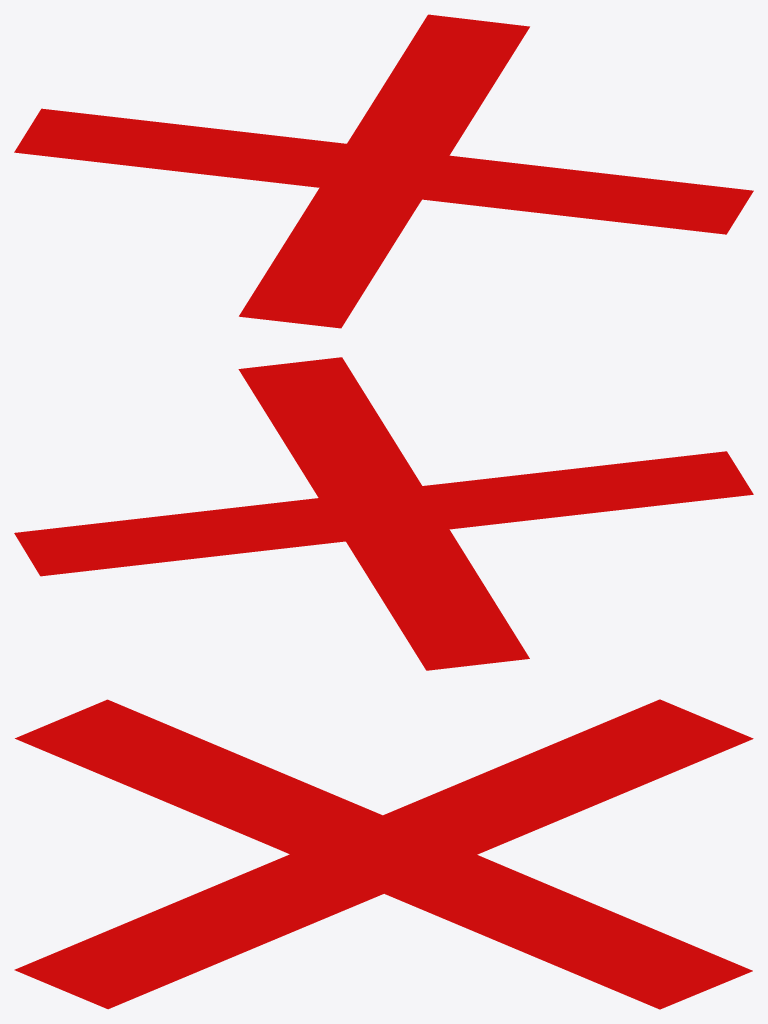
File: xsign.fbx
3 views of the same model, one above another, from view 1: azimuth 30°, elevation 25°; view 2: azimuth 150°, elevation 25°; view 3: azimuth 270°, elevation 25° (orthographic). The views are drawn at different scales.
Visible parts, largest first — view 1: Curve; view 2: Curve; view 3: Curve.
Part boxes in pixels (x1,y1,x2,y2): Curve: (14, 14, 753, 328); Curve: (14, 357, 753, 670); Curve: (14, 699, 753, 1009).
Bounding box in the file's own units: 320 × 5.25e-05 × 322.
